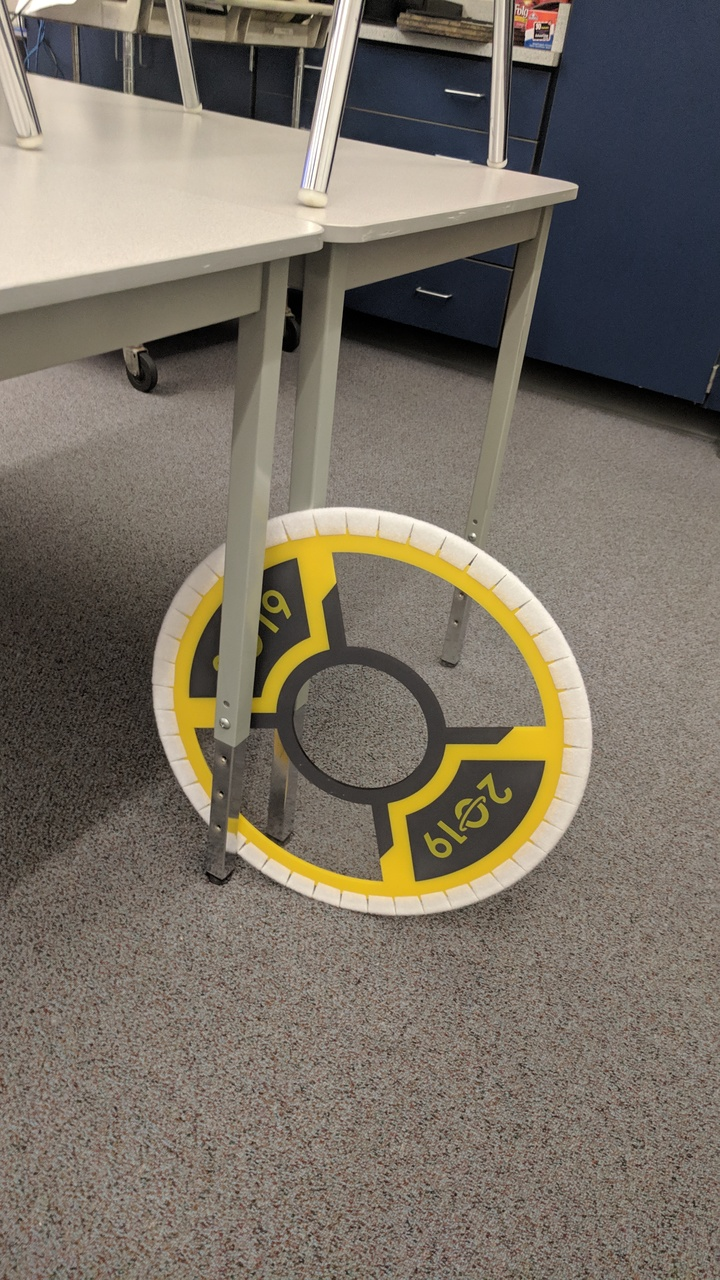hatch_panel: (146, 503, 613, 922)
